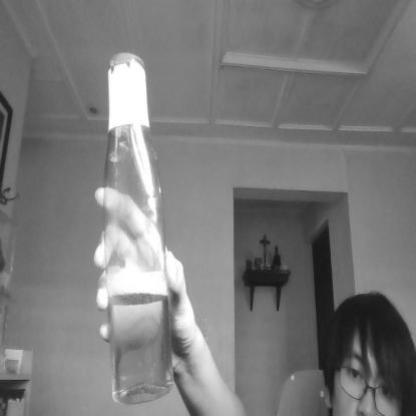Plastic Bottle: (96, 44, 180, 409)
